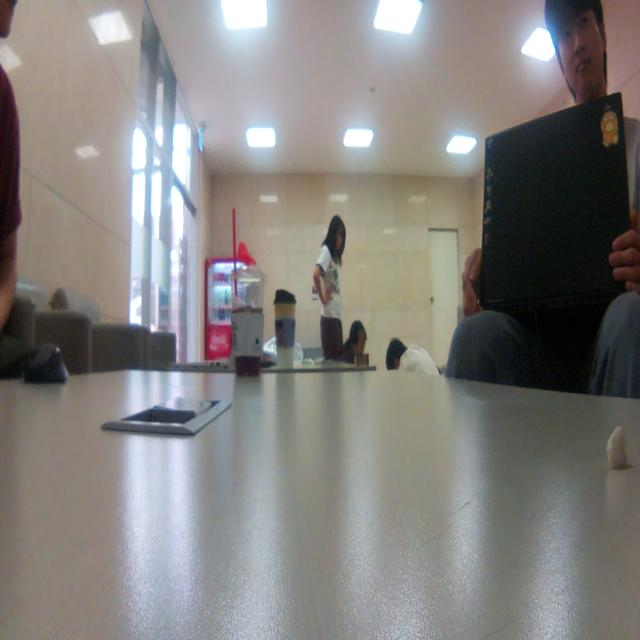target: (354, 324, 369, 371)
